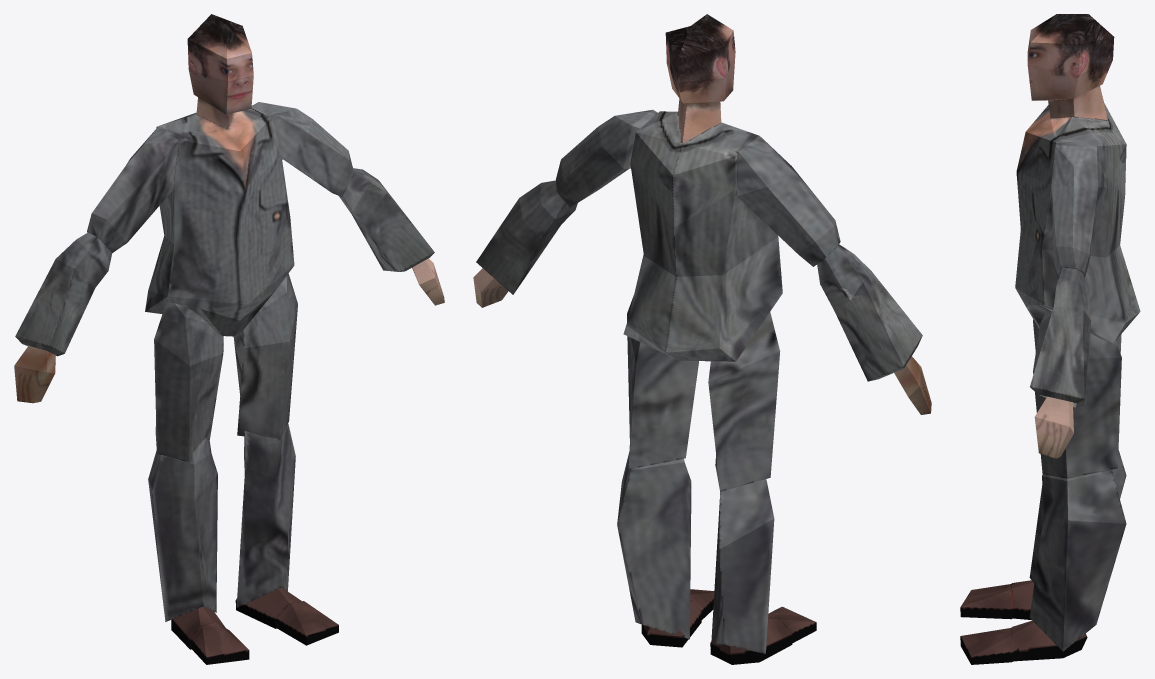
File: Janitor.fbx
3 renders of one model, left to right at view 1: azimuth 30°, elevation 25°; view 2: azimuth 150°, elevation 25°; view 3: azimuth 270°, elevation 25°, orthographic. The views are drawn at different scales.
Parts seen in each view (by area): view 1: male_Torso, male_Calf_R1, male_Calf_L, male_Thigh_L1, male_Thigh_L1.001, male_Forearm_R, male_Upperarm_R, male_Head, male_Forearm_L, male_Upperarm_L, male_Hand_R, male_Toe_L (+2 smaller); view 2: male_Torso, male_Calf_L, male_Calf_R1, male_Thigh_L1, male_Forearm_R, male_Thigh_L1.001, male_Upperarm_R, male_Forearm_L, male_Head, male_Upperarm_L, male_Hand_R, male_Hand_L (+1 smaller); view 3: male_Torso, male_Calf_L, male_Thigh_L1.001, male_Head, male_Upperarm_L, male_Forearm_L, male_Hand_L, male_Toe_L, male_Calf_R1, male_Toe_R.
Boxes of the visible parts, <box> form: male_Torso: <box>145,97,294,336</box>; male_Calf_R1: <box>148,437,225,649</box>; male_Calf_L: <box>235,424,301,628</box>; male_Thigh_L1: <box>154,301,223,462</box>; male_Thigh_L1.001: <box>233,273,297,440</box>; male_Forearm_R: <box>15,232,112,356</box>; male_Upperarm_R: <box>87,126,178,252</box>; male_Head: <box>187,14,253,114</box>; male_Forearm_L: <box>339,168,434,271</box>; male_Upperarm_L: <box>252,102,354,196</box>; male_Hand_R: <box>14,345,55,403</box>; male_Toe_L: <box>277,601,338,645</box>; male_Torso: <box>623,98,782,361</box>; male_Calf_L: <box>617,452,701,647</box>; male_Calf_R1: <box>710,479,792,664</box>; male_Thigh_L1: <box>708,312,780,491</box>; male_Forearm_R: <box>817,244,922,381</box>; male_Thigh_L1.001: <box>627,295,698,469</box>; male_Upperarm_R: <box>735,135,840,266</box>; male_Forearm_L: <box>476,180,577,294</box>; male_Head: <box>665,14,735,103</box>; male_Upperarm_L: <box>556,109,657,207</box>; male_Hand_R: <box>894,356,931,414</box>; male_Hand_L: <box>473,268,508,307</box>; male_Torso: <box>1015,86,1140,343</box>; male_Calf_L: <box>1011,470,1126,661</box>; male_Thigh_L1.001: <box>1033,310,1121,478</box>; male_Head: <box>1027,14,1114,100</box>; male_Upperarm_L: <box>1051,144,1106,279</box>; male_Forearm_L: <box>1030,267,1091,407</box>; male_Hand_L: <box>1034,396,1073,459</box>; male_Toe_L: <box>960,628,1024,664</box>; male_Calf_R1: <box>1011,450,1126,619</box>; male_Toe_R: <box>960,584,1012,619</box>.
Size of the model in its own units: 94.54 by 126 by 33.36.
